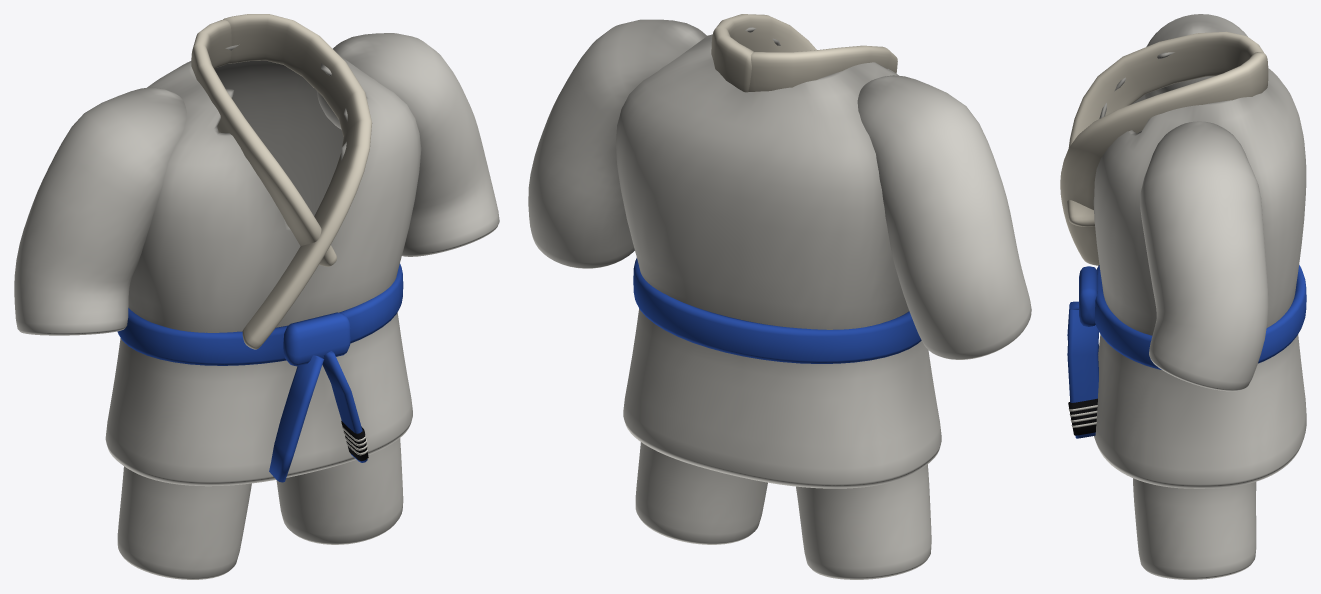
The picture shows the model from 3 angles, left to right: view 1: azimuth 30°, elevation 25°; view 2: azimuth 150°, elevation 25°; view 3: azimuth 270°, elevation 25°; orthographic projection. The views are drawn at different scales.
Visible parts, largest first — view 1: gi_jacket, gi_sleeveR, gi_sleeveL, gi_lapelL, gi_legR, gi_legL, belt, gi_lapelR, belt_endR, belt_knot, belt_endL; view 2: gi_jacket, gi_sleeveR, gi_sleeveL, gi_legR, belt, gi_legL, gi_lapelL, gi_lapelR; view 3: gi_jacket, gi_sleeveL, gi_legL, gi_lapelR, gi_lapelL, belt, belt_endL, gi_sleeveR, belt_knot, belt_bar.
Boxes of the visible parts, x1,y1,x2,y2 form: gi_jacket: [105, 44, 421, 486]; gi_sleeveR: [14, 87, 186, 335]; gi_sleeveL: [317, 33, 499, 256]; gi_lapelL: [223, 14, 372, 349]; gi_legR: [117, 466, 251, 579]; gi_legL: [276, 438, 403, 544]; belt: [117, 264, 403, 365]; gi_lapelR: [191, 19, 336, 266]; belt_endR: [269, 355, 323, 482]; belt_knot: [283, 312, 350, 366]; belt_endL: [322, 351, 367, 462]; gi_jacket: [616, 27, 941, 488]; gi_sleeveR: [857, 75, 1031, 359]; gi_sleeveL: [528, 19, 706, 268]; gi_legR: [796, 464, 931, 579]; belt: [633, 258, 921, 363]; gi_legL: [635, 442, 767, 544]; gi_lapelL: [711, 14, 816, 92]; gi_lapelR: [748, 45, 897, 91]; gi_jacket: [1093, 52, 1306, 488]; gi_sleeveL: [1140, 121, 1268, 391]; gi_legL: [1133, 478, 1256, 579]; gi_lapelR: [1067, 31, 1263, 226]; gi_lapelL: [1060, 52, 1268, 265]; belt: [1095, 265, 1306, 369]; belt_endL: [1067, 309, 1098, 438]; gi_sleeveR: [1144, 14, 1247, 99]; belt_knot: [1079, 266, 1097, 326]; belt_bar: [1068, 398, 1097, 435].
Bounding box in the file's own units: 1.01 × 1.03 × 0.4824.
